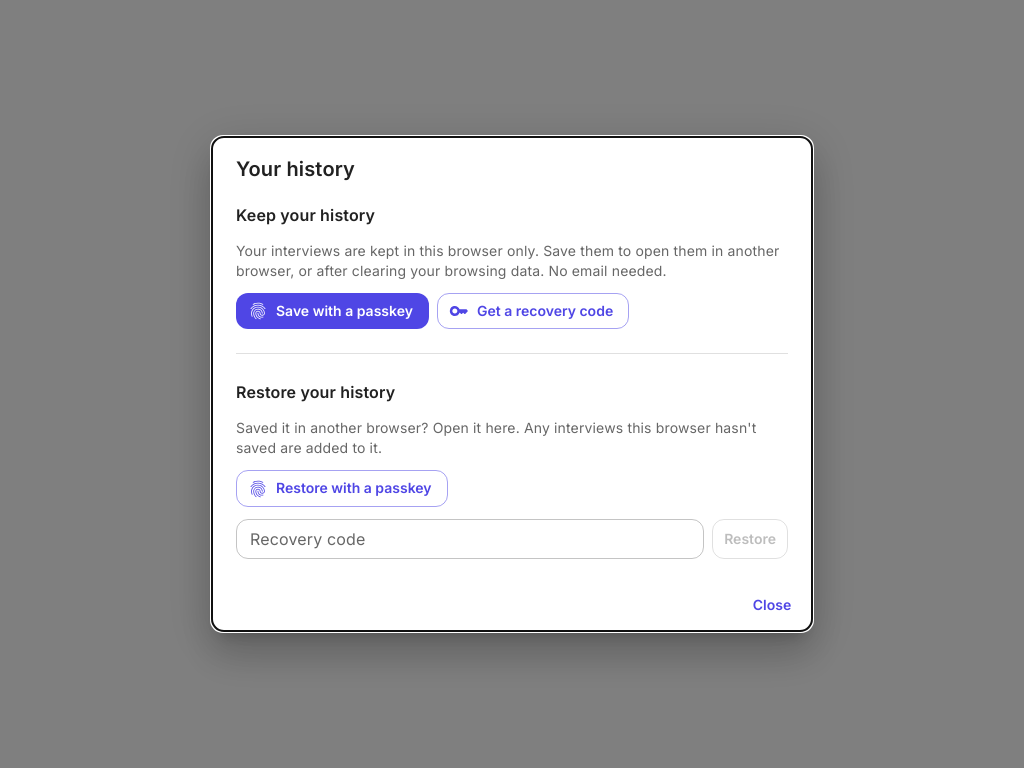
Scenario: AccountDialog › restores the history with a recovery code
The image size is (1024, 768).
Type " abcd-efgh-jkmn-pqrs-tuvw " into the field labelled "Recovery code" at (470, 539), box [236, 519, 704, 559]
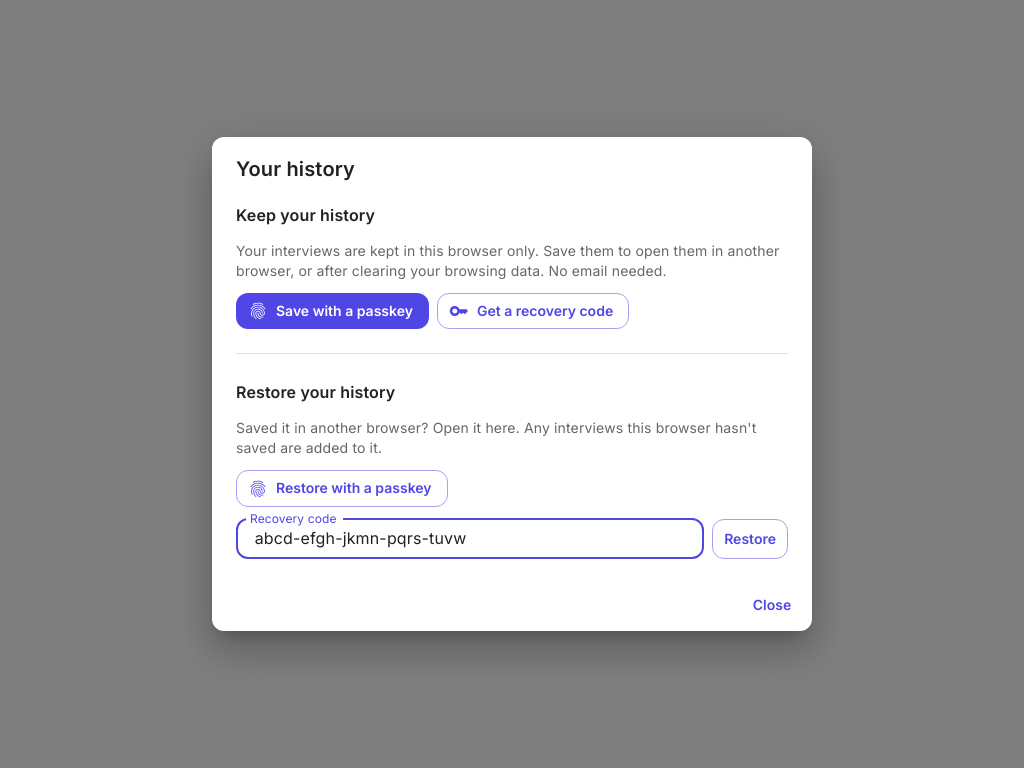
Click the button "Restore" at (750, 539), box [712, 519, 788, 559]
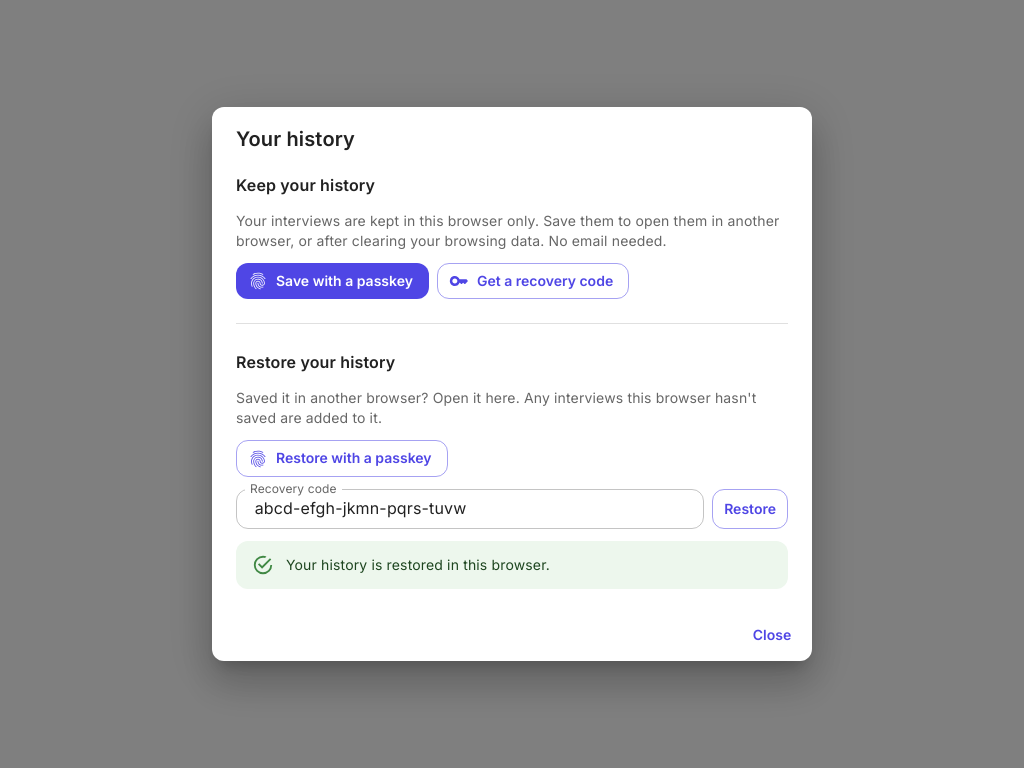
Now the text "Your history is restored in this browser." is shown, box [286, 556, 550, 573]
